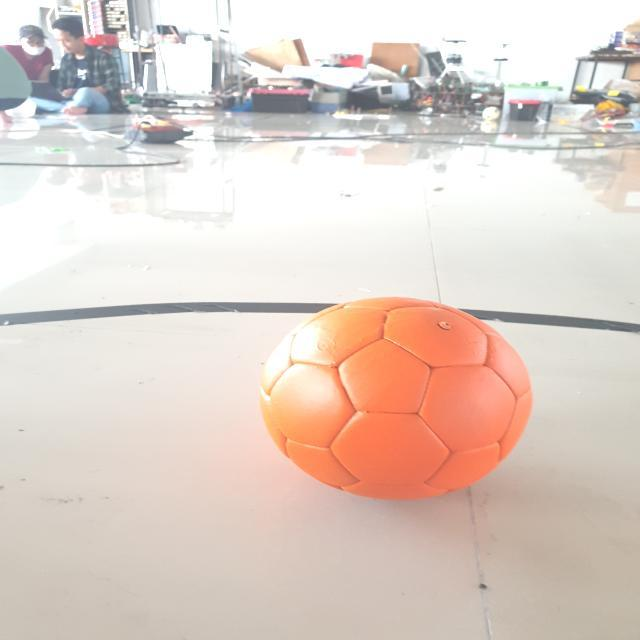bola: (253, 293, 542, 507)
